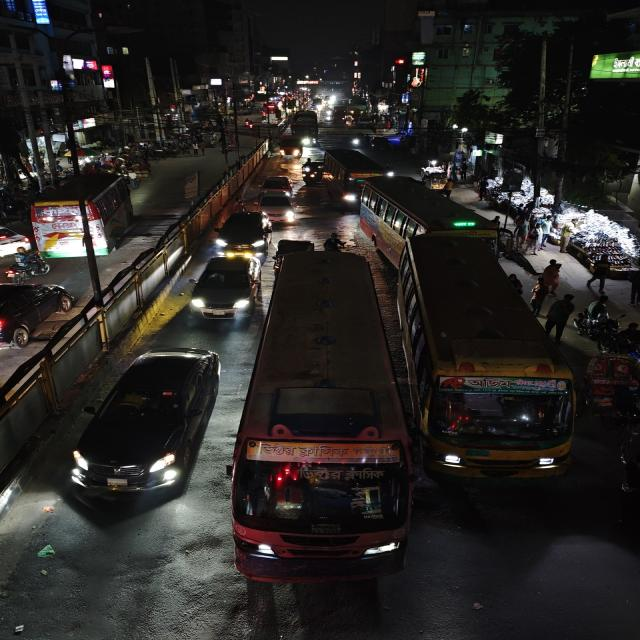bus: (229, 248, 413, 589), (399, 235, 572, 482), (27, 170, 137, 258), (321, 147, 394, 203)
car: (73, 343, 223, 504), (186, 253, 265, 323), (0, 281, 76, 350), (211, 209, 273, 253), (257, 191, 298, 223), (0, 213, 27, 260), (256, 175, 297, 198)
cng: (300, 158, 327, 184)
motorcycle: (614, 417, 640, 529), (6, 247, 52, 281), (621, 322, 640, 364)
pedestrian: (546, 294, 576, 342), (584, 296, 615, 336), (538, 259, 563, 293), (529, 280, 548, 316)
pickup_van: (276, 136, 304, 160)
rickshaw: (584, 354, 634, 414)
